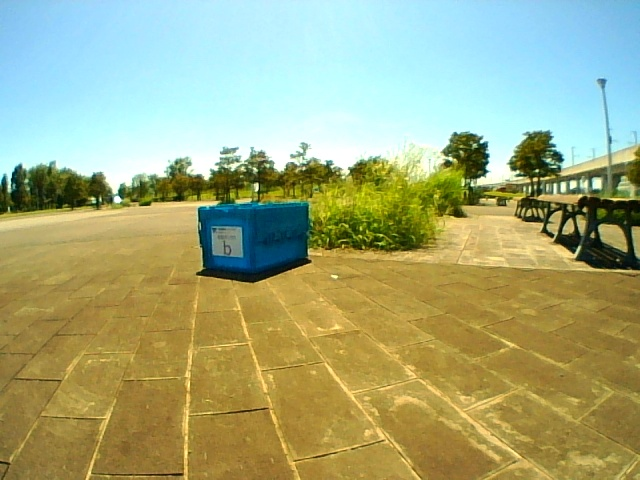blue_box: (198, 204, 308, 266)
tag_b: (213, 228, 240, 257)
